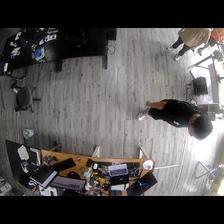normal: (136, 97, 214, 141)
